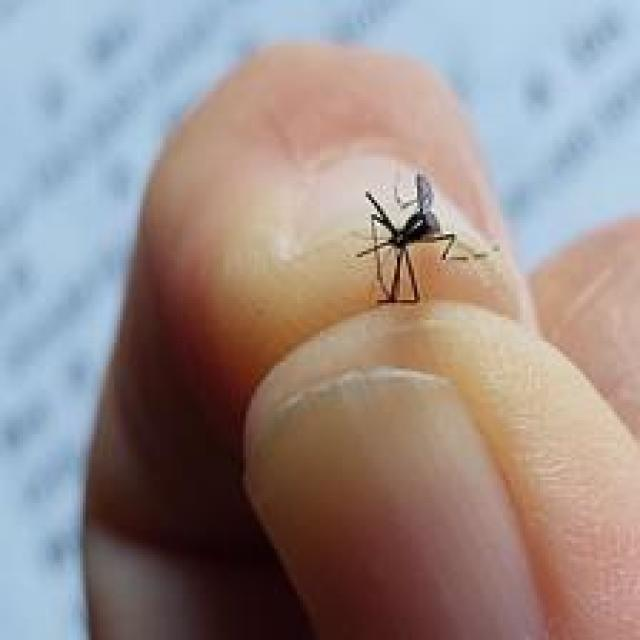Aedes albopictus: (353, 171, 496, 306)
